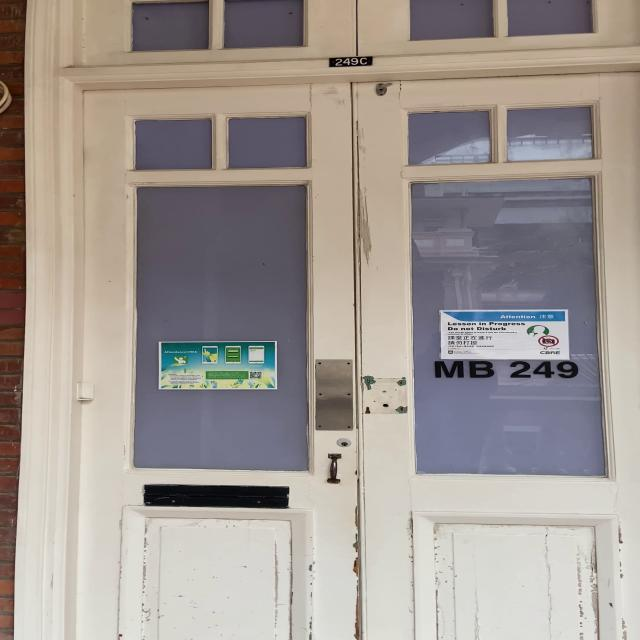room249c: (328, 54, 377, 69)
room249cWindow: (431, 356, 582, 384)
